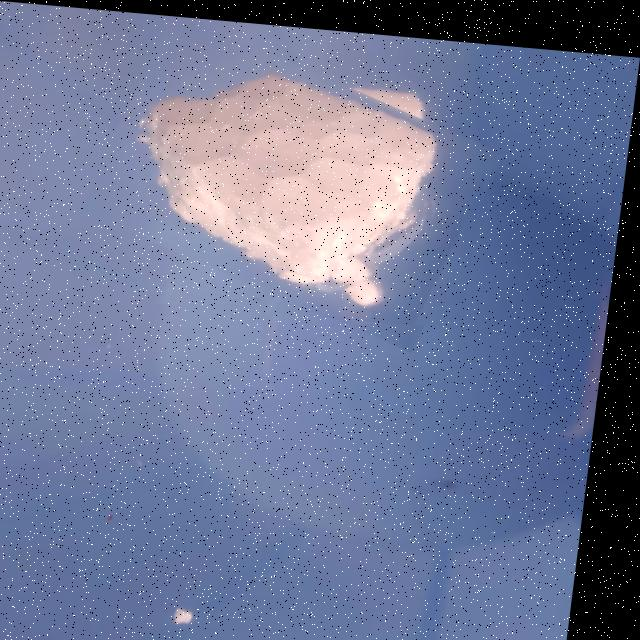thermocoal: (91, 30, 503, 322)
